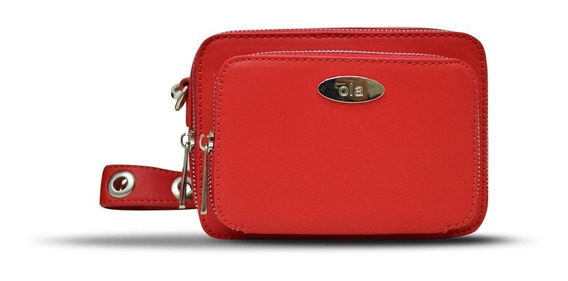cartera: (180, 26, 490, 244)
